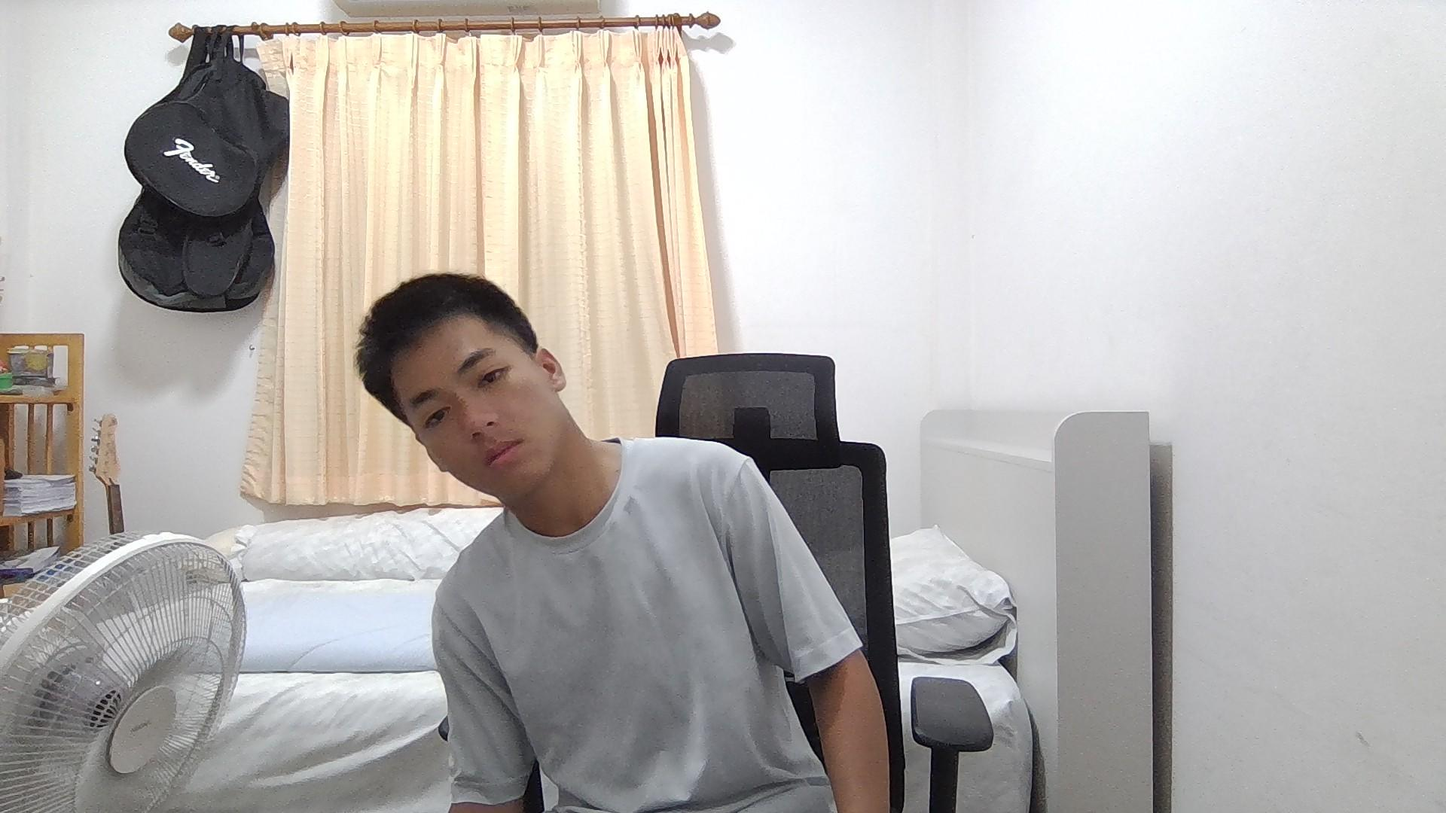BadPosture: (357, 273, 892, 812)
